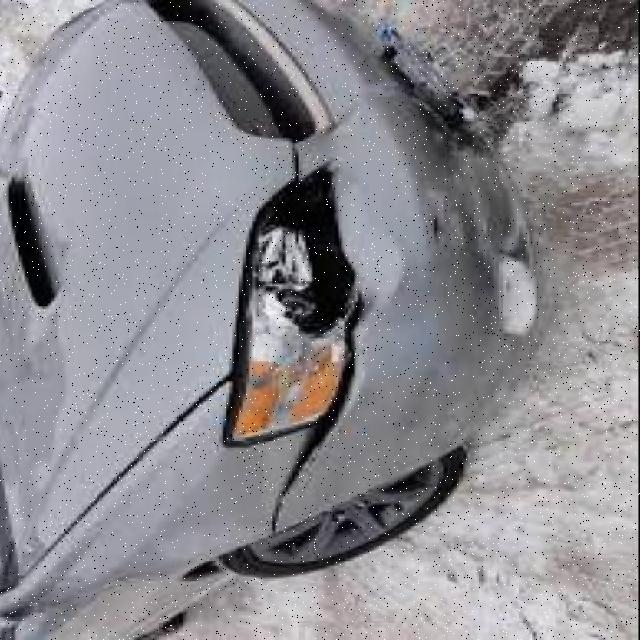damage: (246, 144, 401, 536), (424, 140, 525, 269)
